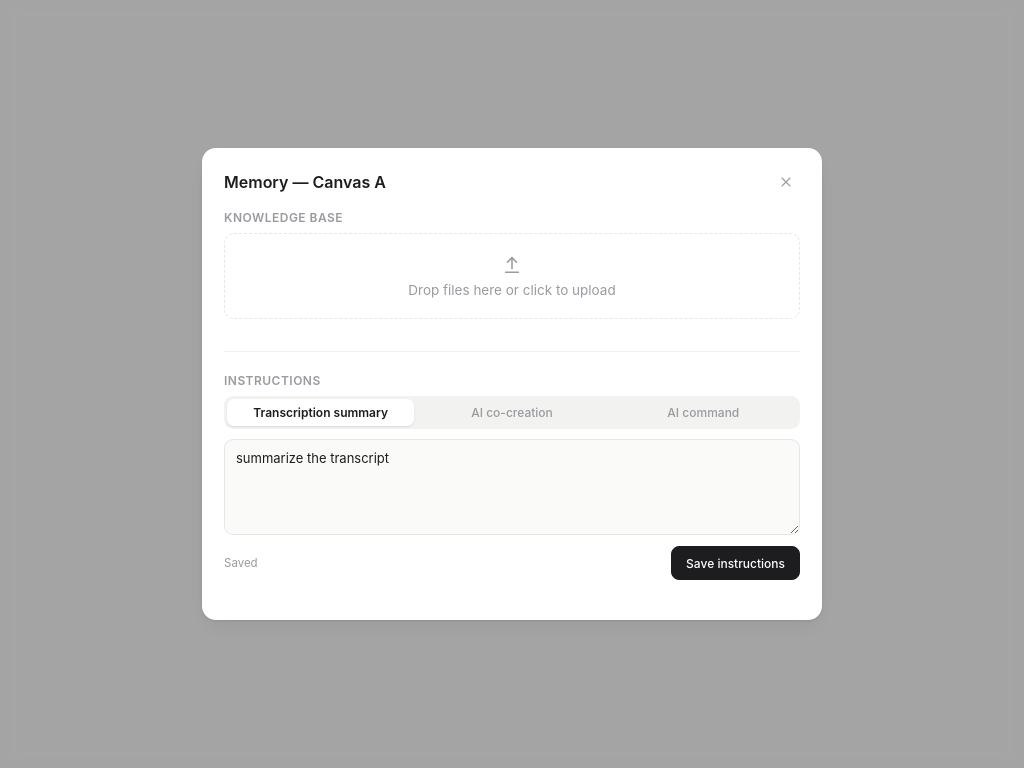
Test: ProjectMemoryModal — instructions tabs › marks unsaved changes when the textarea is edited
This screenshot has width=1024, height=768.
Replace the text in the text box named "transcription summary" with "changed" at coordinates (512, 487), box [224,439,800,535]
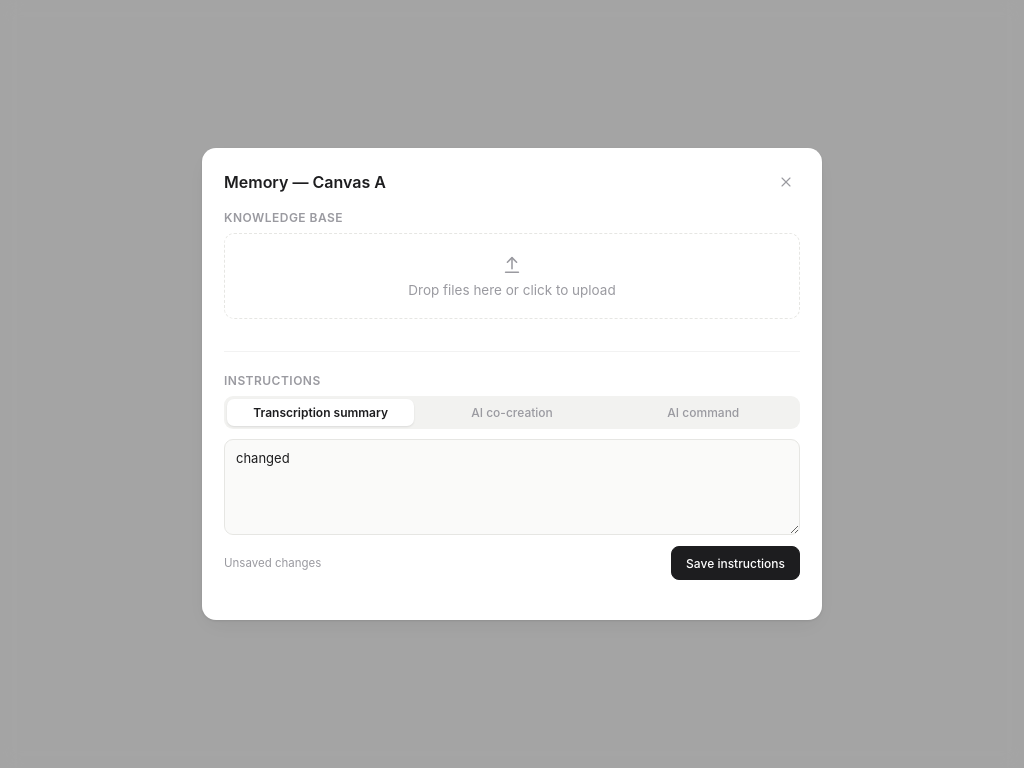
Expected: the text with test id "saved-indicator" reads "Unsaved changes", [224,556,321,570]
